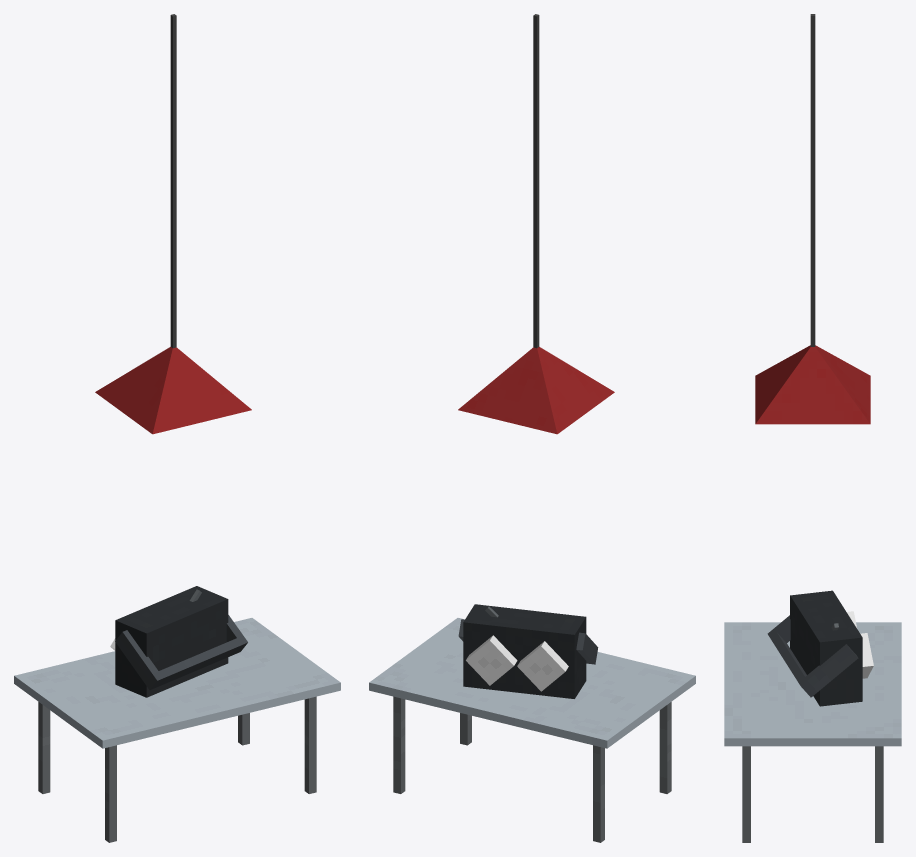
The picture shows the model from 3 angles, left to right: view 1: azimuth 30°, elevation 25°; view 2: azimuth 150°, elevation 25°; view 3: azimuth 270°, elevation 25°; orthographic projection.
Visible parts, largest first — view 1: cube.004, cube.005, pyramid, cube.012, cube.010, cube.003, cube.001, cube, cube.011; view 2: cube.004, pyramid, cube.005, cube.012, cube.007, cube.008, cube.002, cube, cube.001; view 3: cube.004, pyramid, cube.005, cube.012, cube.009, cube.002, cube.003, cube.010, cube.007.
Part boxes in pixels (x1,y1,x2,y2): cube.004: (14,618,340,748); cube.005: (115,586,228,697); pyramid: (95,347,251,434); cube.012: (170,14,176,348); cube.010: (156,638,241,687); cube.003: (304,696,316,793); cube.001: (105,745,116,842); cube: (38,702,50,793); cube.011: (115,630,163,689); cube.004: (369,618,695,748); pyramid: (458,347,614,434); cube.005: (463,604,586,698); cube.012: (533,14,539,348); cube.007: (466,635,517,685); cube.008: (517,641,568,691); cube.002: (393,696,405,793); cube: (593,745,604,842); cube.001: (659,702,671,793); cube.004: (724,622,901,746); pyramid: (755,345,870,424); cube.005: (790,590,862,706); cube.012: (810,14,815,346); cube.009: (798,644,858,697); cube.002: (875,746,883,842); cube.003: (742,746,750,842); cube.010: (770,632,806,682); cube.007: (860,633,873,678).
Bounding box in the file's own units: 1.94 × 6.04 × 1.25.
2 materials, 2 textured.
